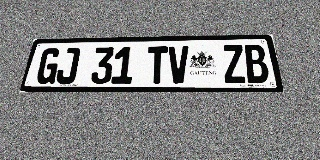1: (111, 47, 134, 84)
3: (90, 47, 114, 84)
B: (243, 44, 270, 83)
G: (35, 48, 62, 84)
J: (55, 48, 81, 84)
T: (146, 46, 168, 84)
V: (168, 46, 189, 84)
Z: (221, 45, 247, 83)
